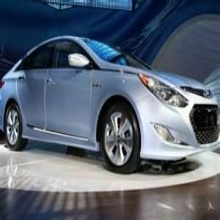no damage: (1, 35, 220, 175)
